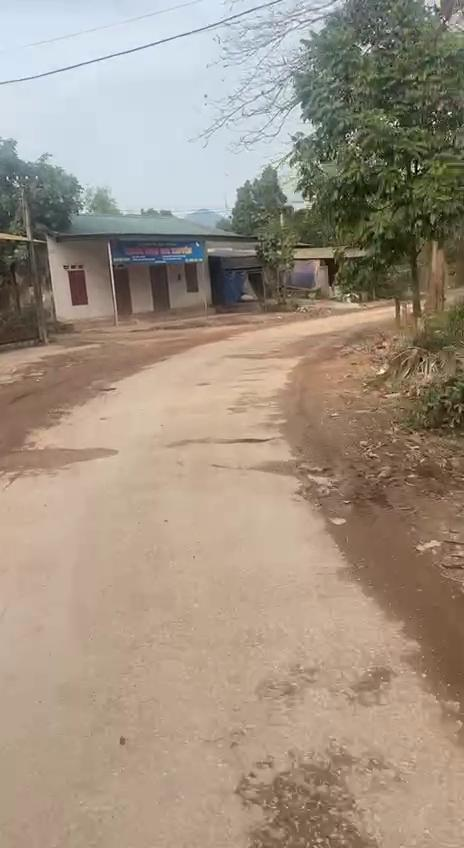pothole: (243, 742, 366, 848)
